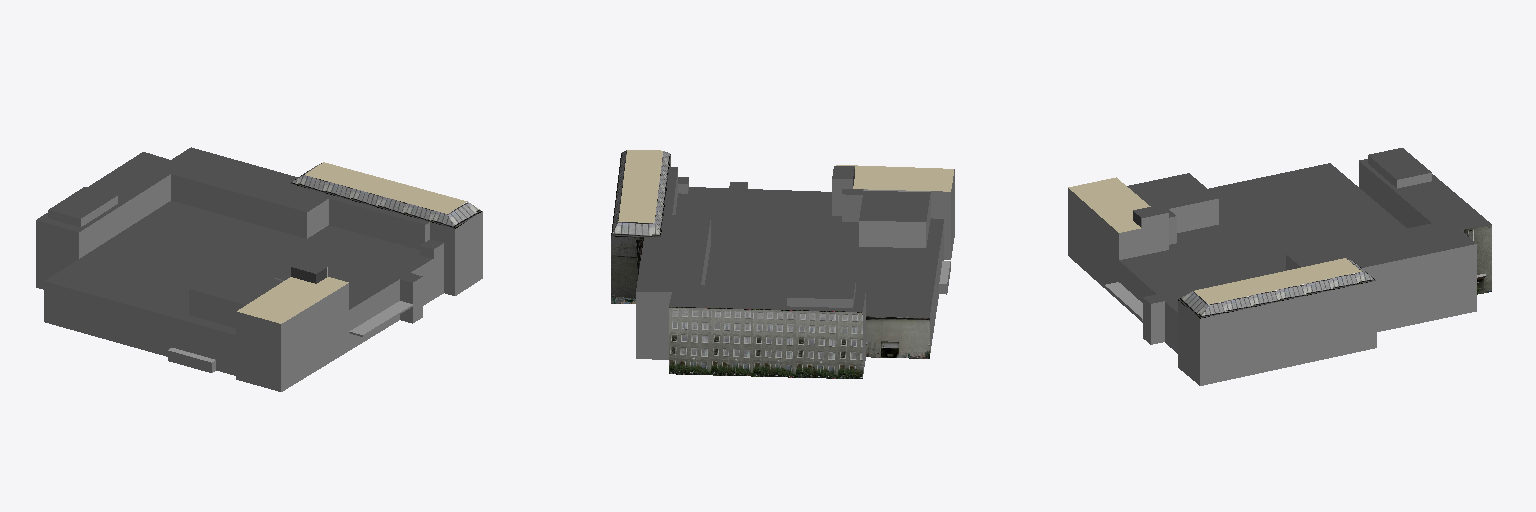
The picture shows the model from 3 angles: view 1: azimuth 30°, elevation 25°; view 2: azimuth 150°, elevation 25°; view 3: azimuth 270°, elevation 25°; orthographic projection.
Parts seen in each view (by area): view 1: mesh1_mesh1-geometry, mesh2_mesh2-geometry; view 2: mesh1_mesh1-geometry, mesh2_mesh2-geometry; view 3: mesh1_mesh1-geometry, mesh2_mesh2-geometry.
Part boxes in pixels (x1,y1,x2,y2): mesh1_mesh1-geometry: (36,147,482,391); mesh2_mesh2-geometry: (48,187,117,226); mesh1_mesh1-geometry: (611,150,954,378); mesh2_mesh2-geometry: (787,281,855,307); mesh1_mesh1-geometry: (1068,159,1491,385); mesh2_mesh2-geometry: (1368,148,1431,188).
Size of the model in its own units: 101 by 20.21 by 99.3.
Materials: 21 (5 with a texture image).